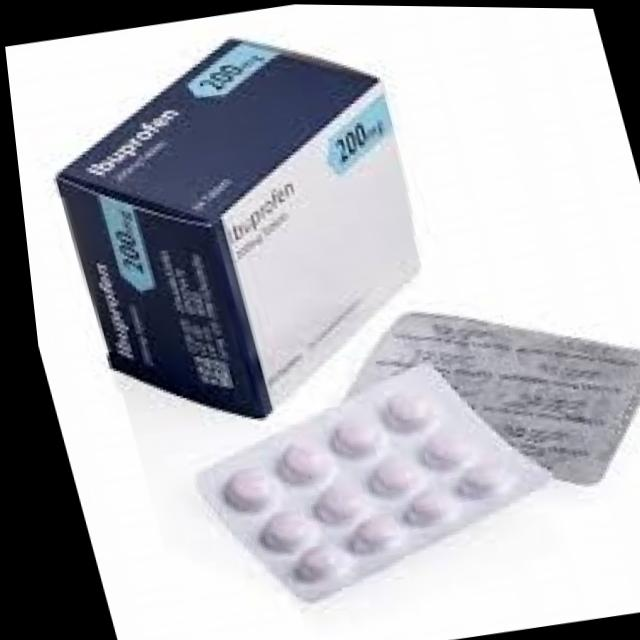datamatrix: (175, 345, 237, 400)
